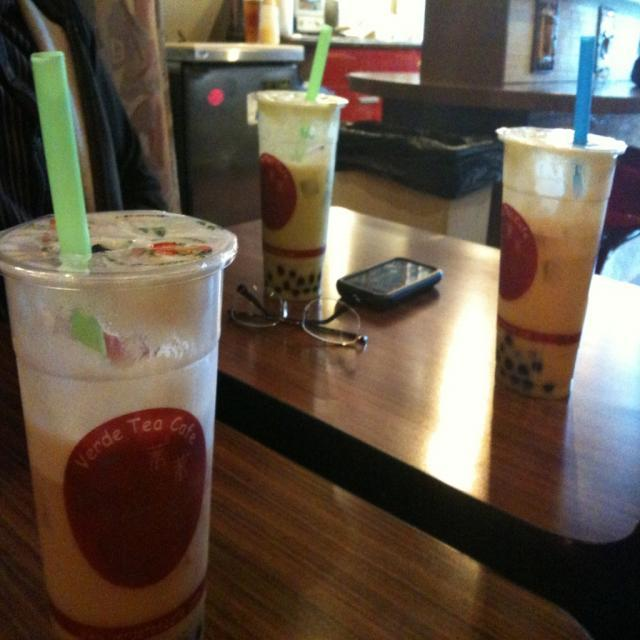Juice: (495, 126, 613, 408)
